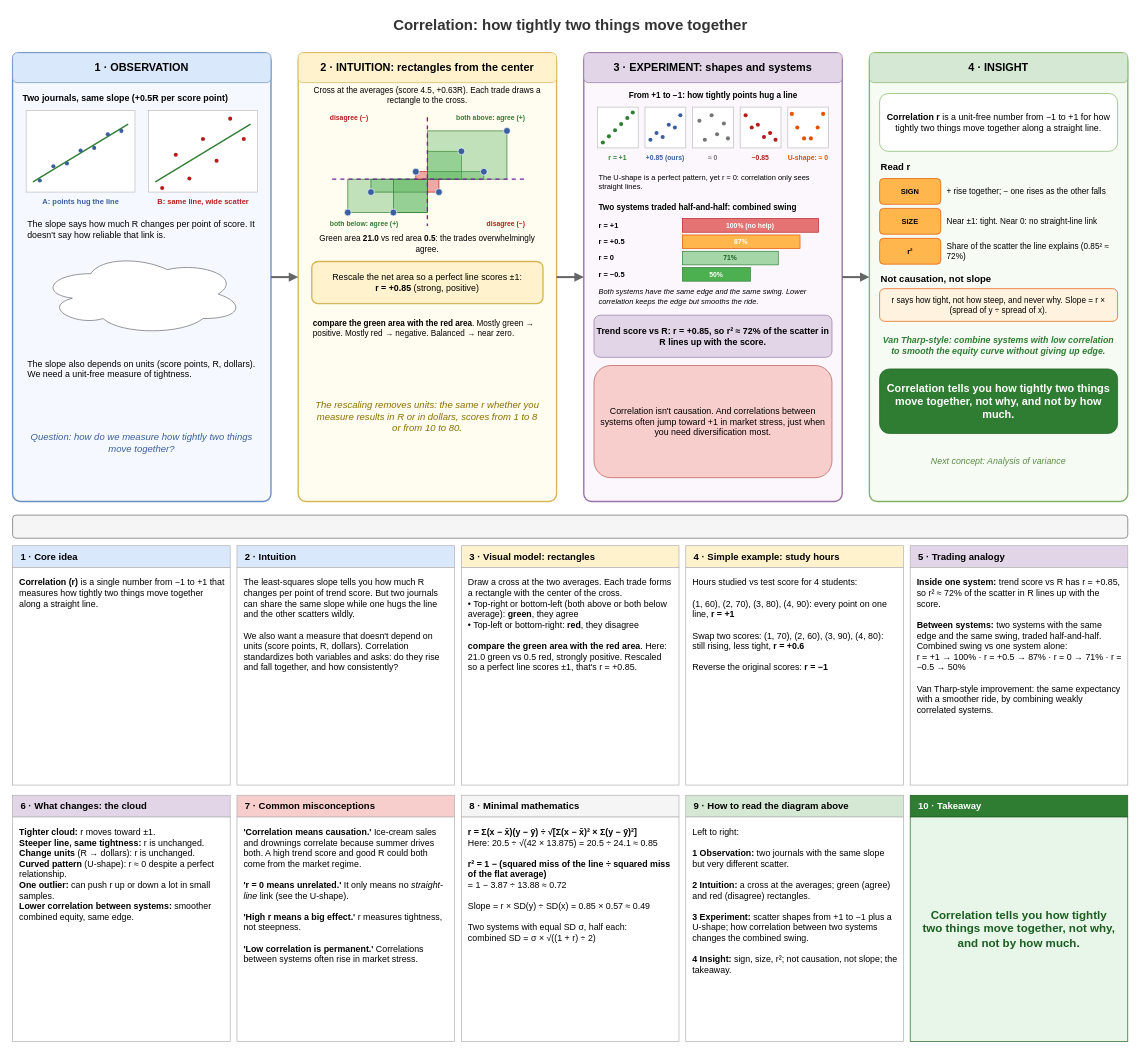
Some shapes in this 1140 by 1053 pixel diagram are drawn without their labels. The shapes that lost their labels are listed below. From the top down, each one's centre as x and y in pixels, then its label:
At point 141,294: "Same slope. Same trust?".
At point 570,526: "LESSON NOTES: the full explanation, for future reference".
